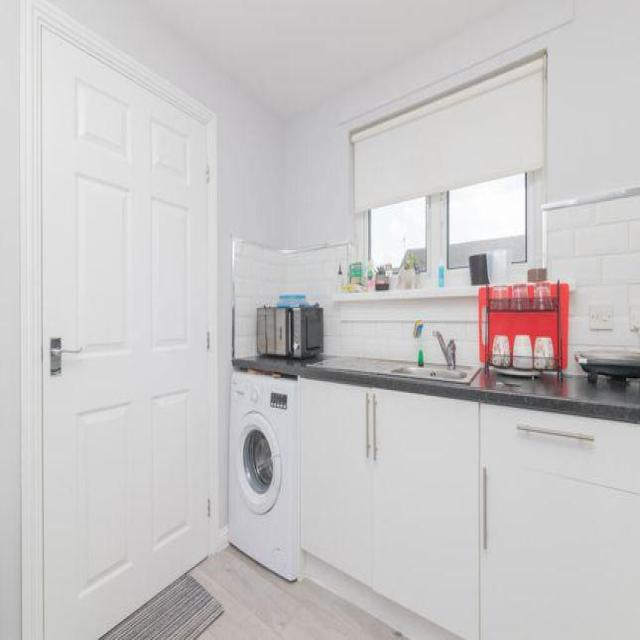Wall: (51, 0, 351, 526), (146, 1, 510, 117), (232, 238, 477, 366), (105, 546, 401, 638), (547, 2, 640, 200), (546, 197, 640, 372), (0, 0, 20, 636), (570, 285, 639, 347), (625, 323, 637, 346)
